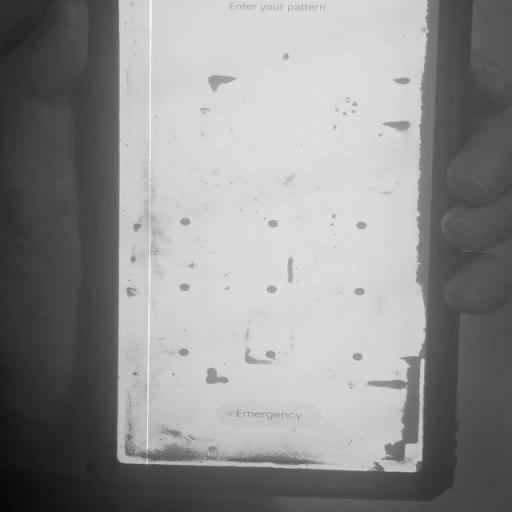phone: (81, 0, 473, 499)
